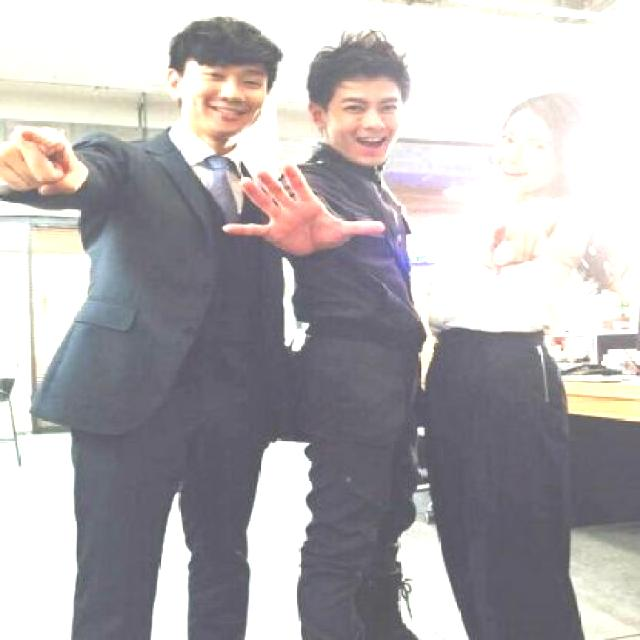Person: (0, 0, 260, 638), (423, 72, 637, 638), (244, 8, 430, 640)
